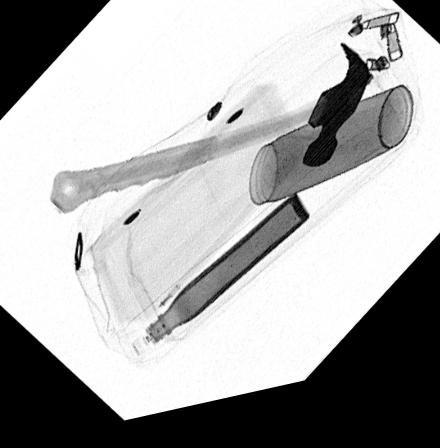Hammer: (46, 57, 369, 218)
